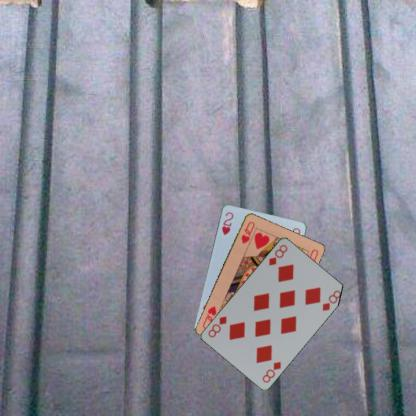2h: (219, 209, 235, 236)
8d: (259, 359, 282, 384), (266, 242, 289, 266)
Qh: (239, 218, 256, 245)
